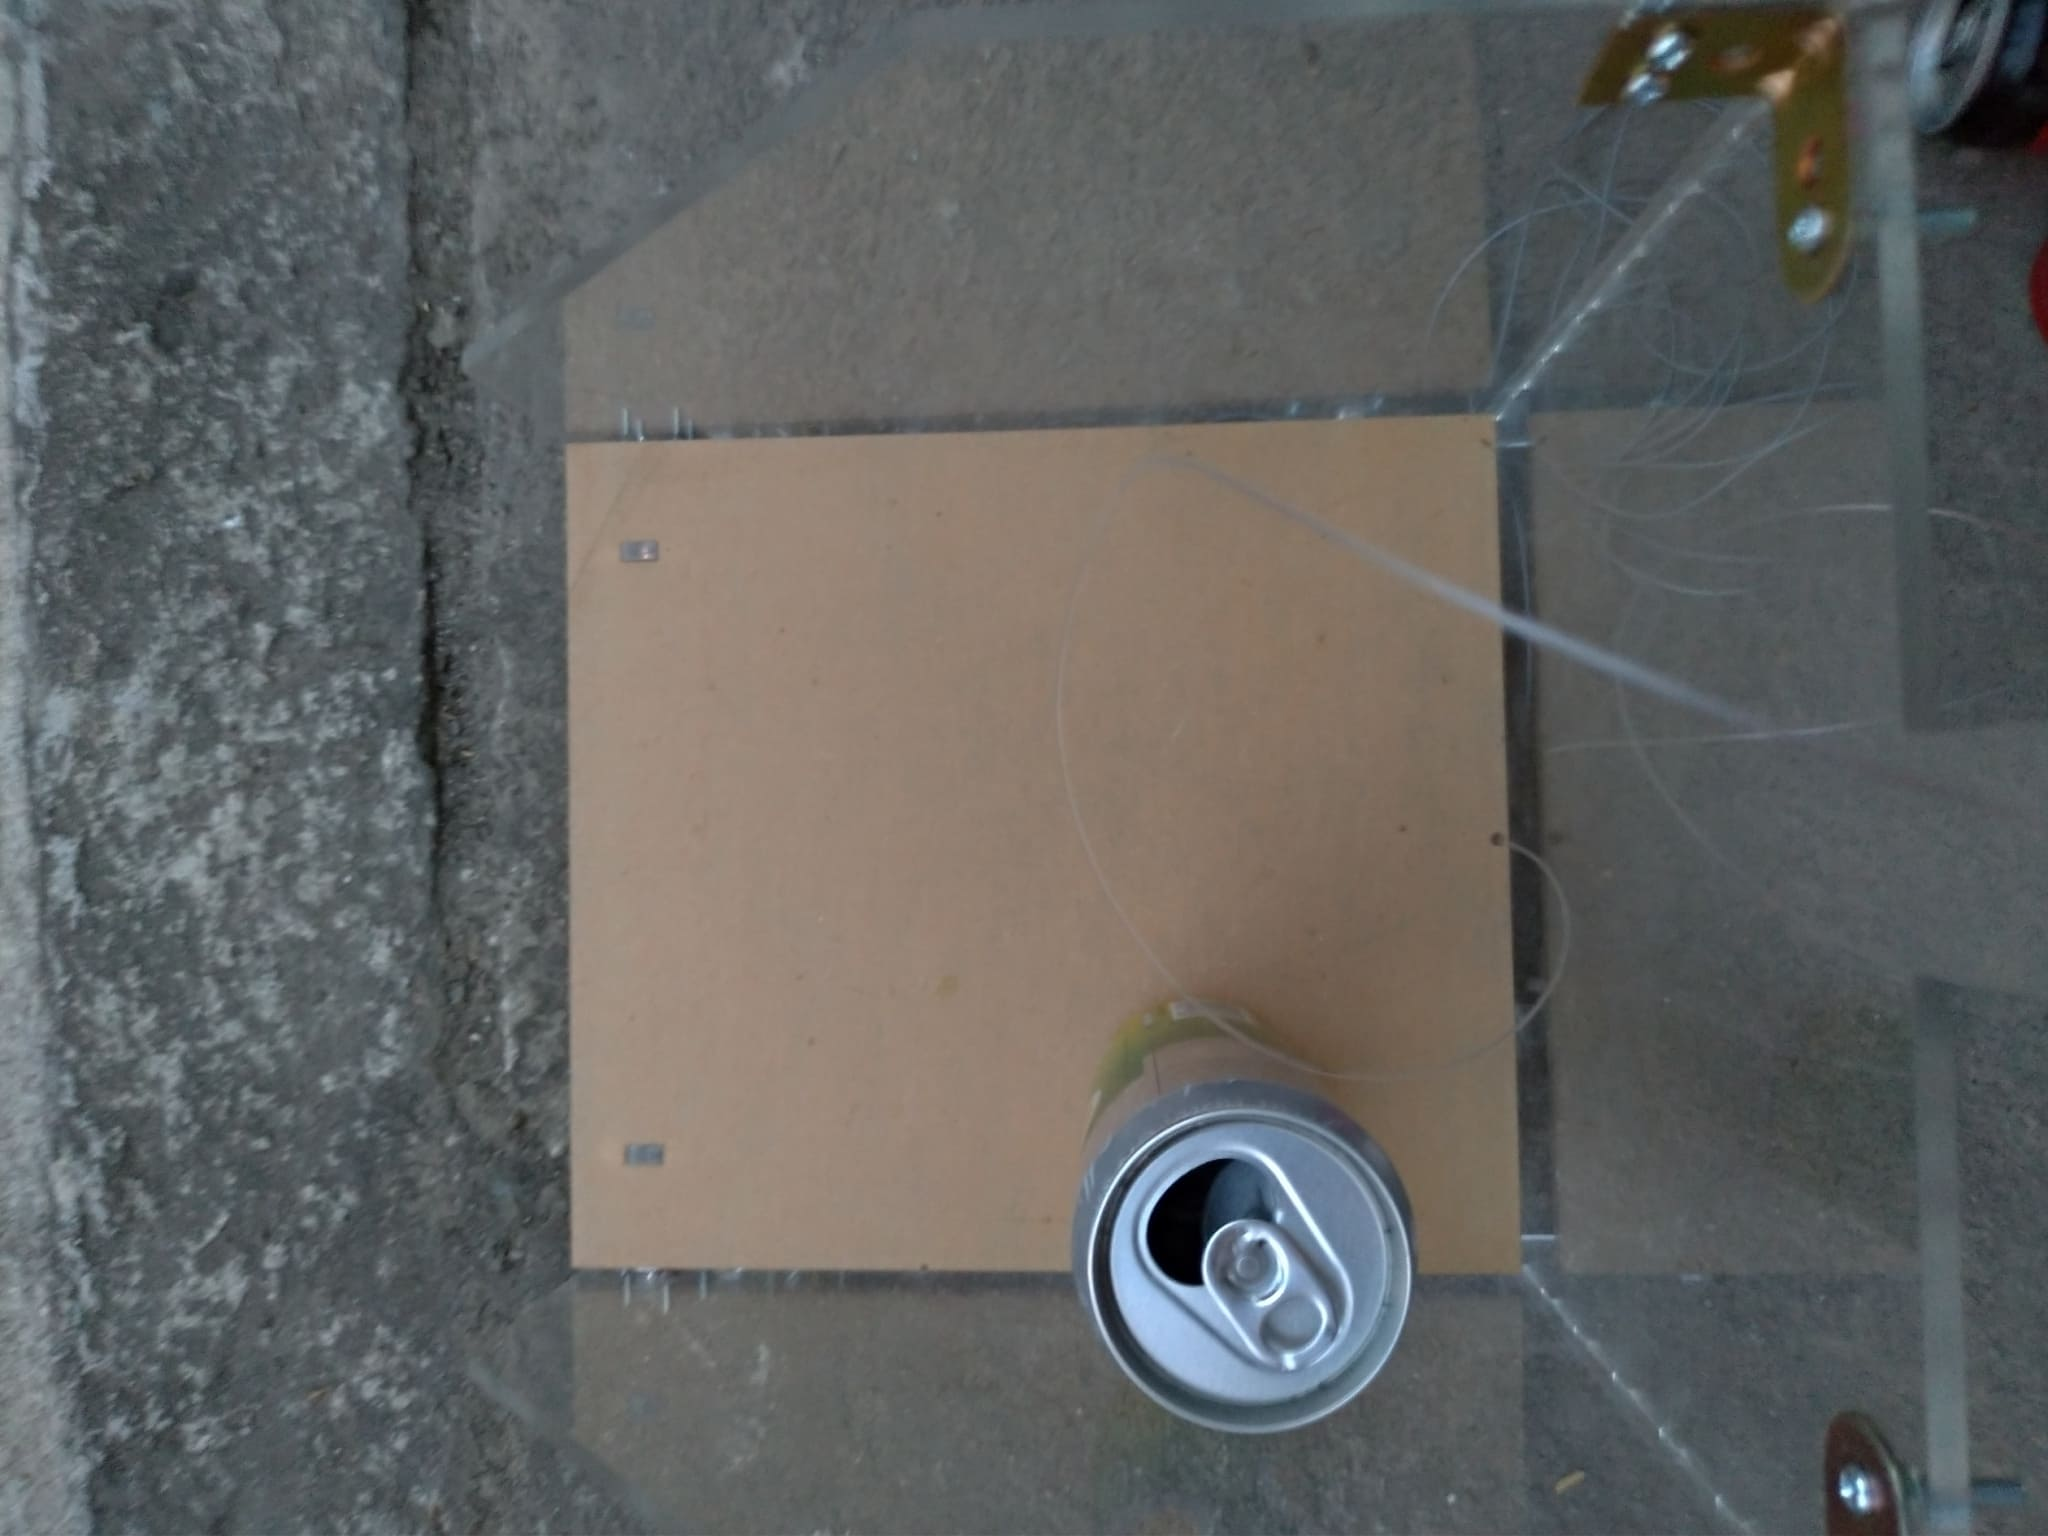AlCan: (1068, 1000, 1411, 1438)
